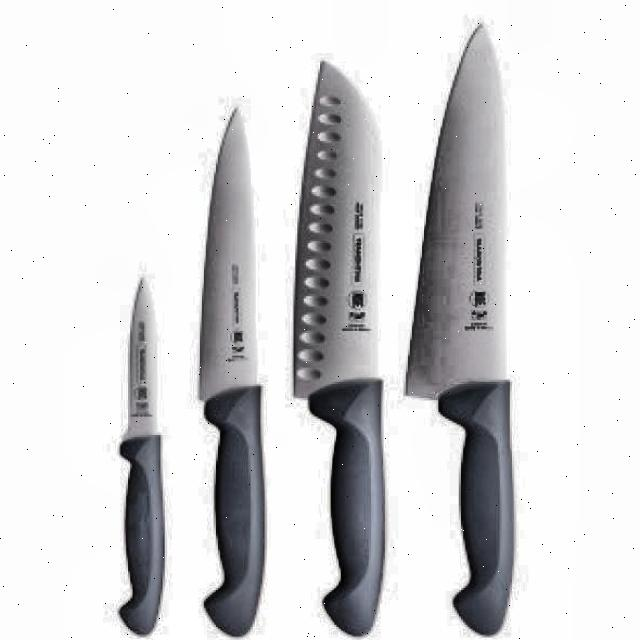knife: (406, 19, 520, 636), (288, 60, 395, 637), (197, 105, 274, 640), (110, 281, 170, 635)
